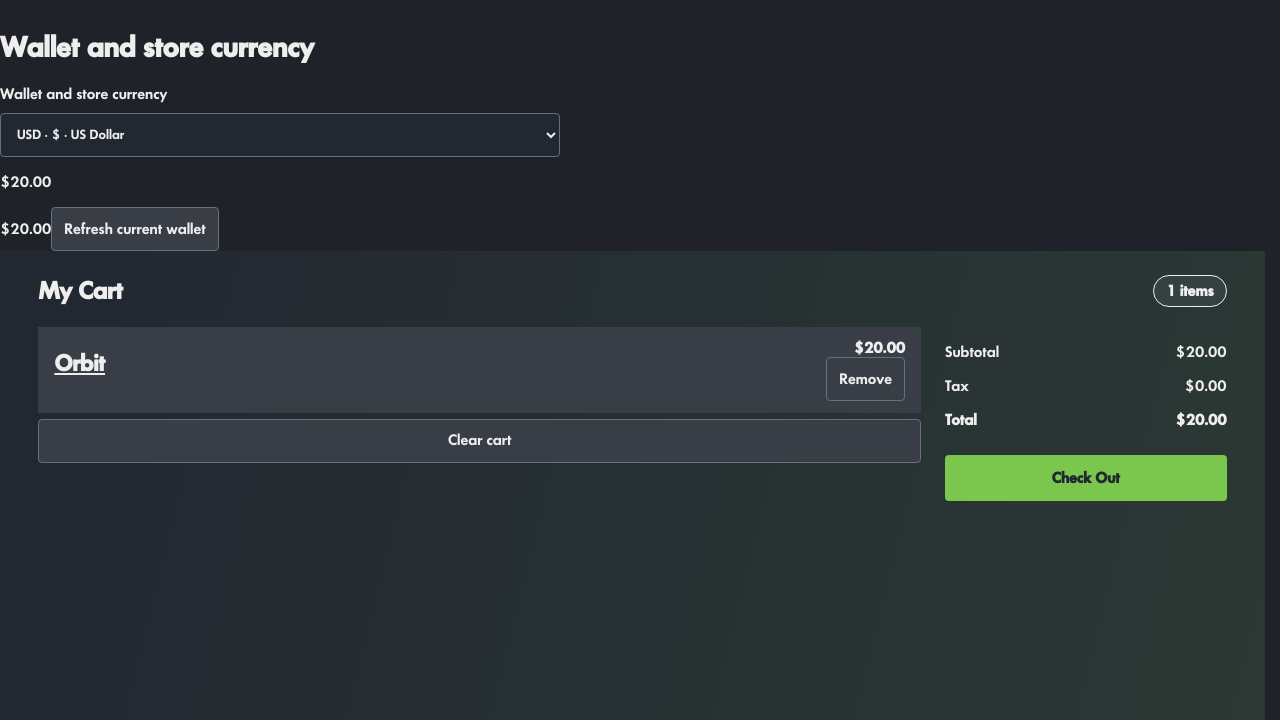
superseding reconciliation cannot briefly re-enable old-currency checkout
Later steps or results of the test are not shown.
Expected: the button "Check Out" is enabled, [945,455,1227,501]
Expected: the 1st text "$20.00" is shown, [0,174,51,190]
Select "EUR · € · Euro" in the dropdown labelled "Wallet and store currency". click: [280, 135]
box: [0,113,560,157]
(page scrolled)
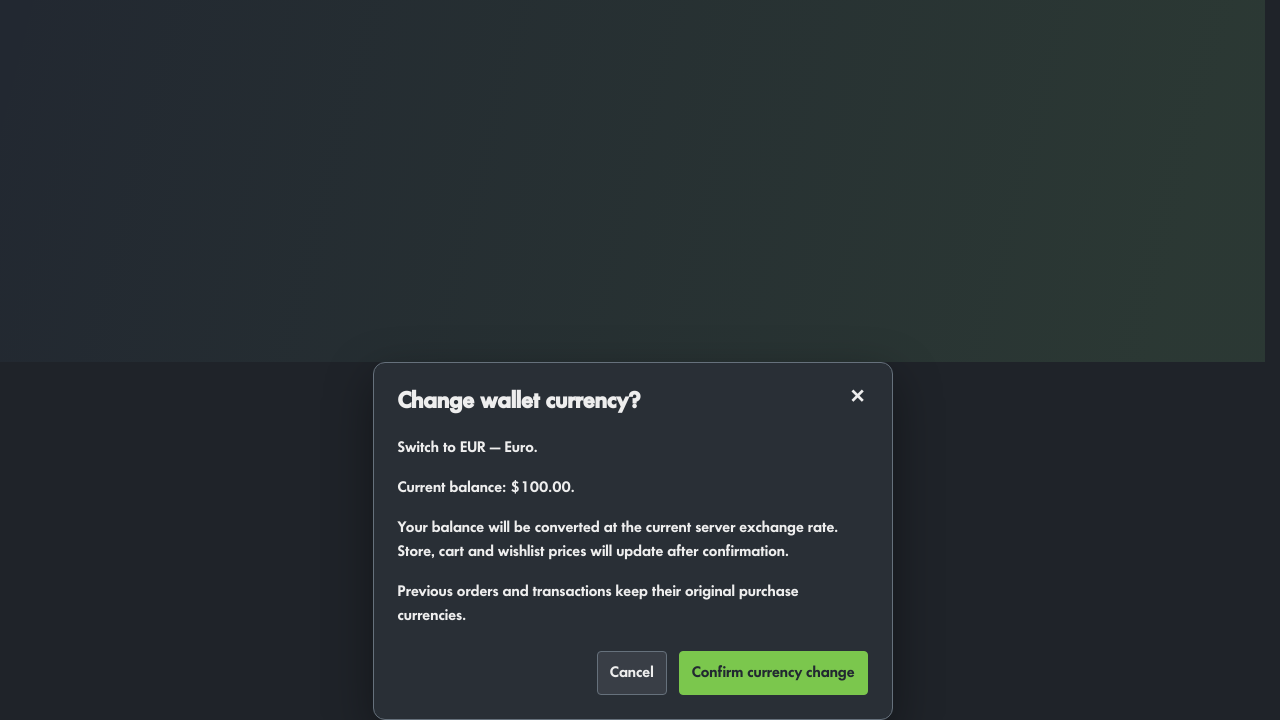
Click the button "Confirm currency change". click: [773, 673]
box: [679,651,868,695]
(page scrolled)
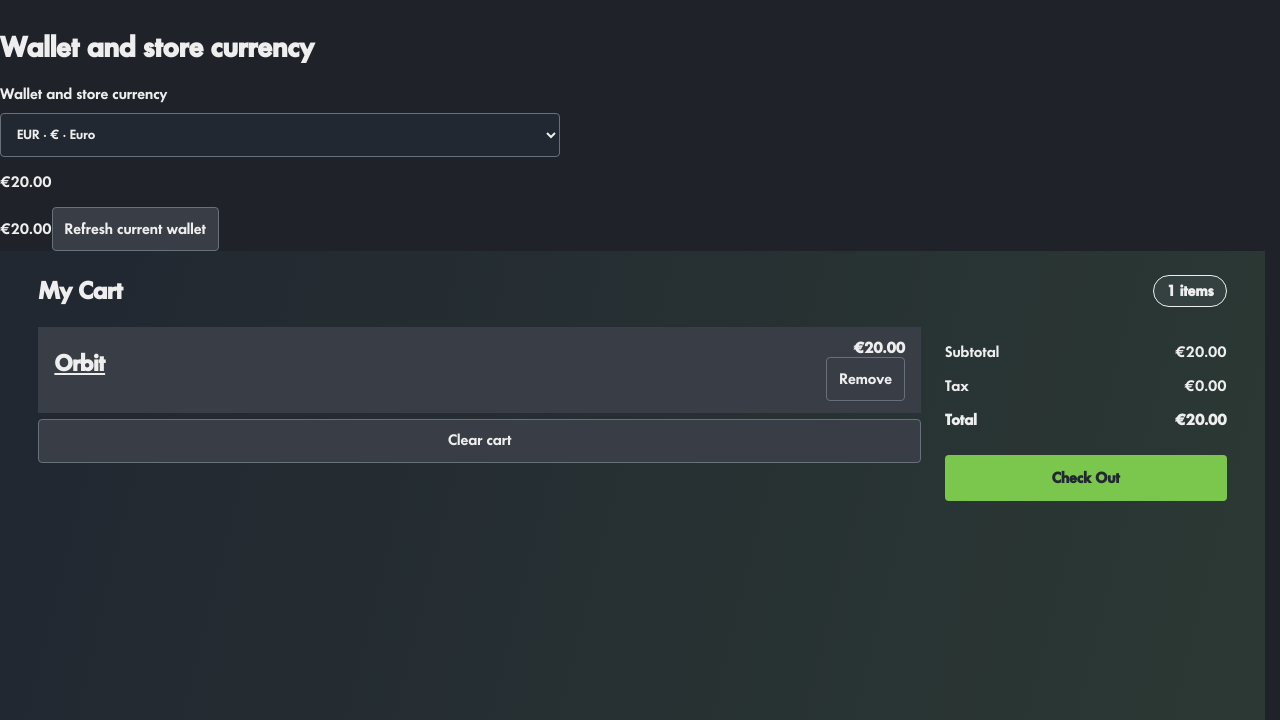
Expected: the button "Check Out" is enabled, [945,455,1227,501]
Result: the 1st text "€20.00" is shown at [0,174,52,190]
